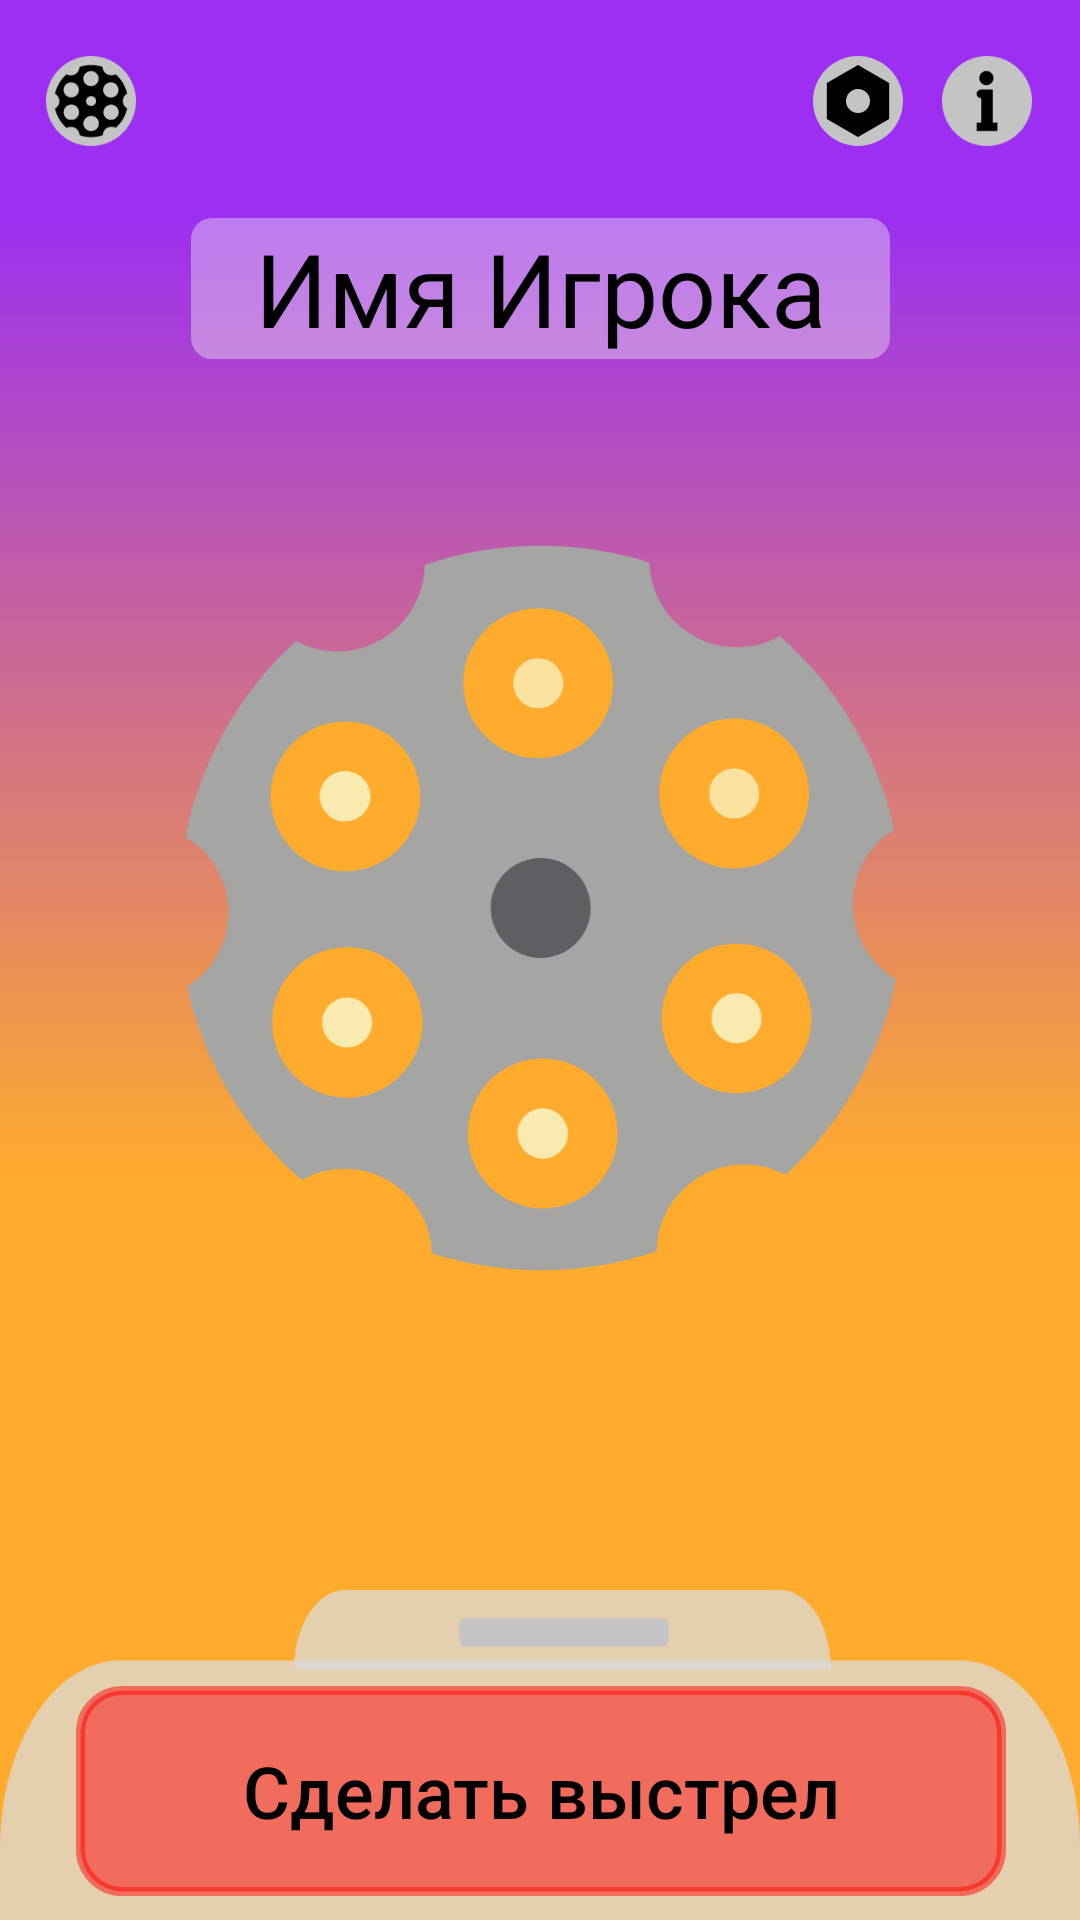

Icons on this 1080 × 1920 Android screen, each with its box as Rect(x1, y1, x2, y2):
reset clip: Rect(46, 56, 136, 146)
settings: Rect(813, 56, 903, 146)
